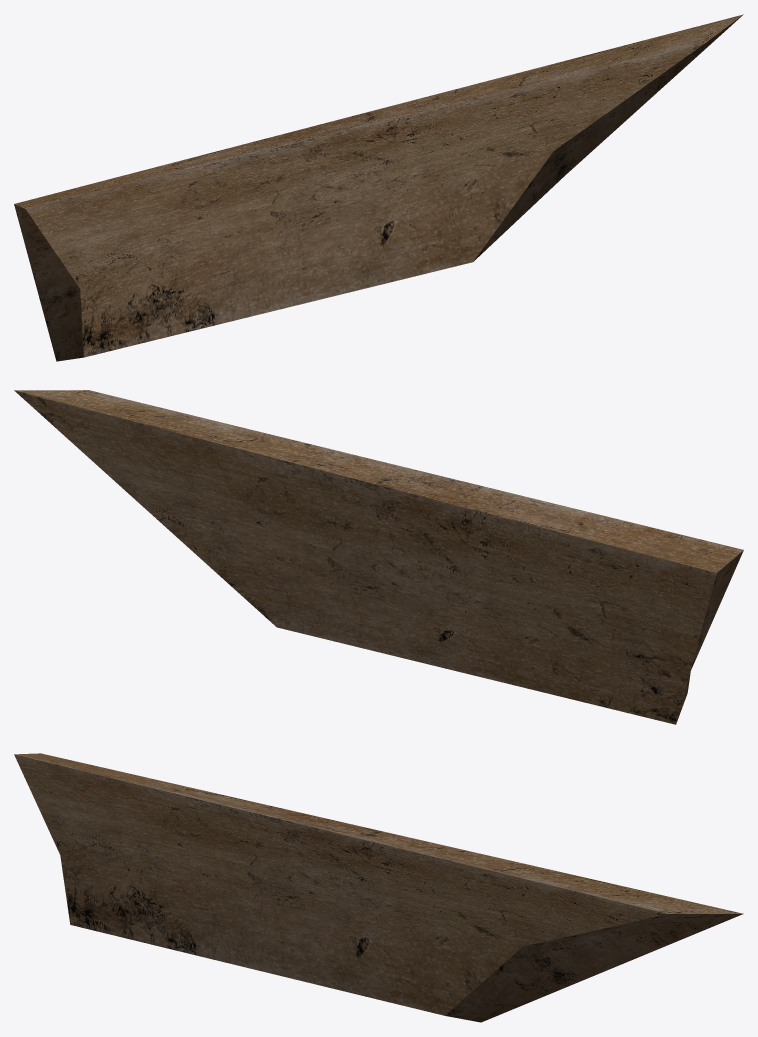
Rendered from SM_Plank_04.fbx.
3 renders of one model, top to bottom at view 1: azimuth 30°, elevation 25°; view 2: azimuth 150°, elevation 25°; view 3: azimuth 330°, elevation 25°, orthographic. The views are drawn at different scales.
Visible parts, largest first — view 1: SM_Plank_04; view 2: SM_Plank_04; view 3: SM_Plank_04.
Part boxes in pixels (x1,y1,x2,y2): SM_Plank_04: [14, 14, 743, 361]; SM_Plank_04: [14, 390, 743, 724]; SM_Plank_04: [14, 753, 743, 1022].
Bounding box in the file's own units: 86.07 × 20 × 4.65.
Materials: 1 (1 with a texture image).
